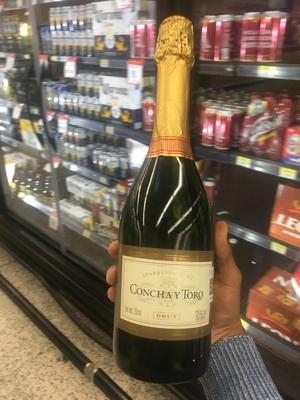brut: (107, 20, 224, 364)
